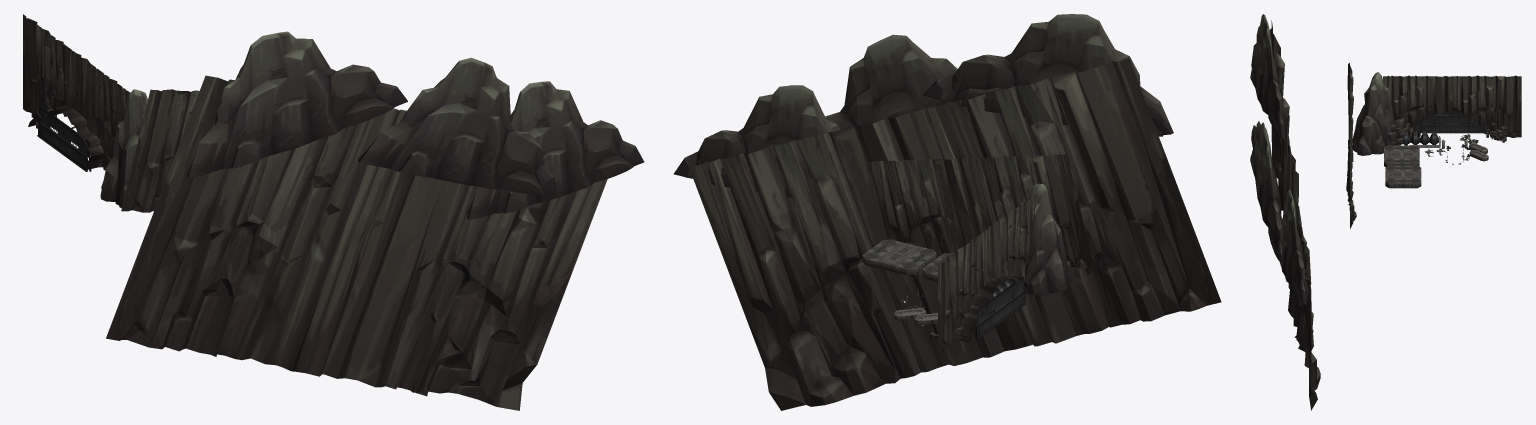
The model's file is env_ana_republic_shipyard_01_pre.glb.
The picture shows the model from 3 angles, left to right: view 1: azimuth 30°, elevation 25°; view 2: azimuth 150°, elevation 25°; view 3: azimuth 270°, elevation 25°; orthographic projection. The views are drawn at different scales.
Parts seen in each view (by area): view 1: ana_wall_01_mesh, ana_rock_01_mesh (1), ana_rock_01_mesh (2), ana_rock_01_mesh (3), ana_wall_arch_01_mesh, ana_wall_01_mesh (1), ana_rock_01_mesh, ana_door_01_mesh (1); view 2: ana_wall_01_mesh, ana_wall_01_mesh (1), ana_rock_01_mesh (1), ana_wall_arch_01_mesh, ana_rock_01_mesh (2), ana_rock_01_mesh (3), ana_rock_01_mesh, ana_pod_02_mesh (1), ana_door_01_mesh (1); view 3: ana_wall_arch_01_mesh, ana_wall_01_mesh, ana_rock_01_mesh (2), ana_rock_01_mesh, ana_rock_01_mesh (1), ana_rock_01_mesh (3), ana_door_01_mesh (1), ana_wall_01_mesh (1), ana_pod_02_mesh (1), ana_pod_02_mesh, ana_rockpile_02_mesh, ana_shield_generator_mesh.
Part boxes in pixels (box(x1,y1,x2,y2)): ana_wall_01_mesh: box(106, 75, 607, 410); ana_rock_01_mesh (1): box(186, 31, 407, 178); ana_rock_01_mesh (2): box(357, 57, 556, 196); ana_rock_01_mesh (3): box(465, 81, 644, 219); ana_wall_arch_01_mesh: box(23, 14, 130, 170); ana_wall_01_mesh (1): box(121, 89, 199, 212); ana_rock_01_mesh: box(100, 89, 147, 208); ana_door_01_mesh (1): box(37, 106, 91, 171); ana_wall_01_mesh: box(689, 58, 1221, 410); ana_wall_01_mesh (1): box(869, 154, 1094, 276); ana_rock_01_mesh (1): box(923, 14, 1173, 136); ana_wall_arch_01_mesh: box(938, 192, 1037, 353); ana_rock_01_mesh (2): box(825, 34, 957, 129); ana_rock_01_mesh (3): box(673, 85, 839, 197); ana_rock_01_mesh: box(1025, 183, 1074, 295); ana_pod_02_mesh (1): box(862, 239, 936, 275); ana_door_01_mesh (1): box(975, 276, 1025, 337); ana_wall_arch_01_mesh: box(1383, 75, 1521, 137); ana_wall_01_mesh: box(1270, 20, 1320, 410); ana_rock_01_mesh (2): box(1250, 121, 1282, 267); ana_rock_01_mesh: box(1352, 72, 1398, 155); ana_rock_01_mesh (1): box(1250, 14, 1286, 138); ana_rock_01_mesh (3): box(1281, 189, 1309, 304); ana_door_01_mesh (1): box(1417, 110, 1488, 134); ana_wall_01_mesh (1): box(1346, 63, 1356, 228); ana_pod_02_mesh (1): box(1385, 165, 1421, 188); ana_pod_02_mesh: box(1384, 145, 1419, 167); ana_rockpile_02_mesh: box(1386, 117, 1411, 145); ana_shield_generator_mesh: box(1403, 131, 1438, 145).
Size of the model in its own units: 428 by 343 by 277.
Materials: 24 (23 with a texture image).
